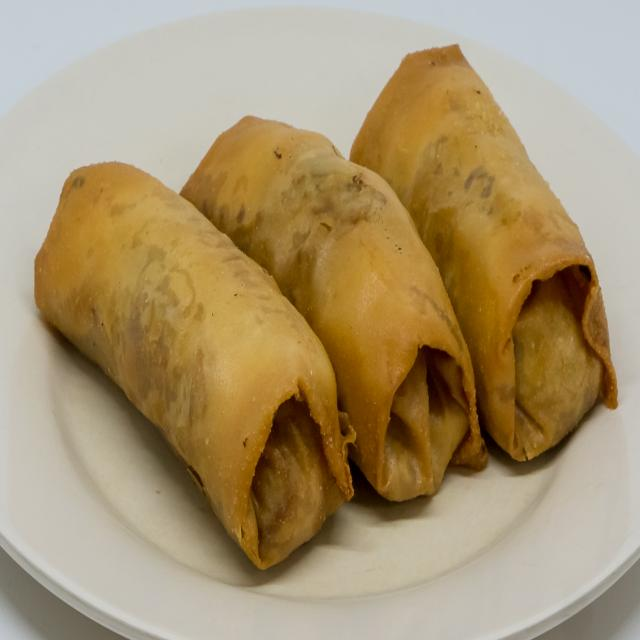Lumpia-Semarang: (19, 21, 631, 590)
